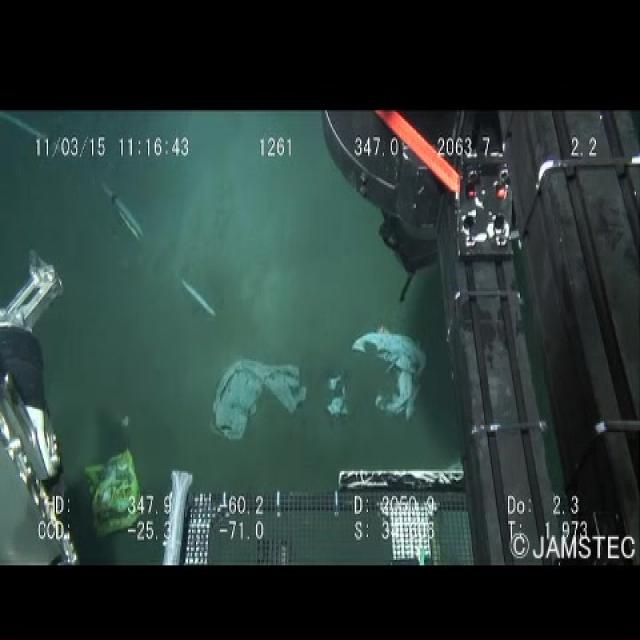plastic: (319, 323, 433, 438), (204, 350, 311, 439), (78, 441, 146, 546)
